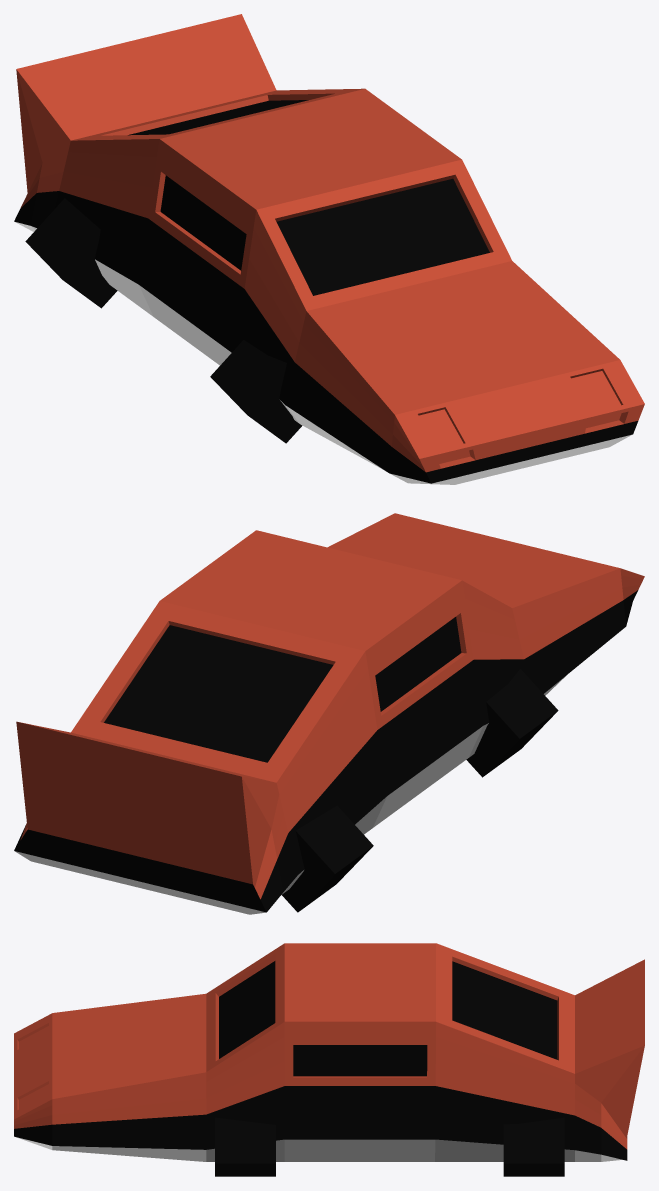
The model's file is RED Car.fbx.
3 renders of one model, top to bottom at view 1: azimuth 30°, elevation 25°; view 2: azimuth 150°, elevation 25°; view 3: azimuth 270°, elevation 25°, orthographic. The views are drawn at different scales.
Visible parts, largest first — view 1: Cube, Cube.004, Cube.003; view 2: Cube, Cube.004, Cube.003; view 3: Cube, Cube.002, Cube.001.
Boxes of the visible parts, <box> form: Cube: <box>14,14,644,484</box>; Cube.004: <box>25,198,117,308</box>; Cube.003: <box>210,340,302,443</box>; Cube: <box>14,513,644,914</box>; Cube.004: <box>282,805,373,912</box>; Cube.003: <box>466,669,558,777</box>; Cube: <box>14,943,644,1161</box>; Cube.002: <box>503,1117,564,1176</box>; Cube.001: <box>215,1117,275,1176</box>.
Bounding box in the file's own units: 2.53 × 5.82 × 1.57.
